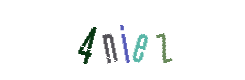4: (47, 0, 127, 80)
E: (87, 0, 167, 80)
I: (82, 0, 162, 80)
N: (82, 0, 162, 80)
Z: (93, 0, 173, 80)
